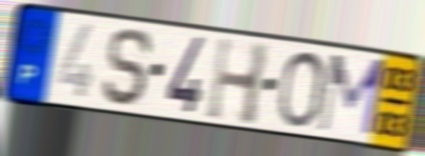4: (164, 34, 205, 116), (55, 20, 95, 102)
H: (204, 33, 273, 128)
M: (314, 51, 389, 139)
O: (274, 49, 328, 131)
S: (100, 25, 157, 109)
